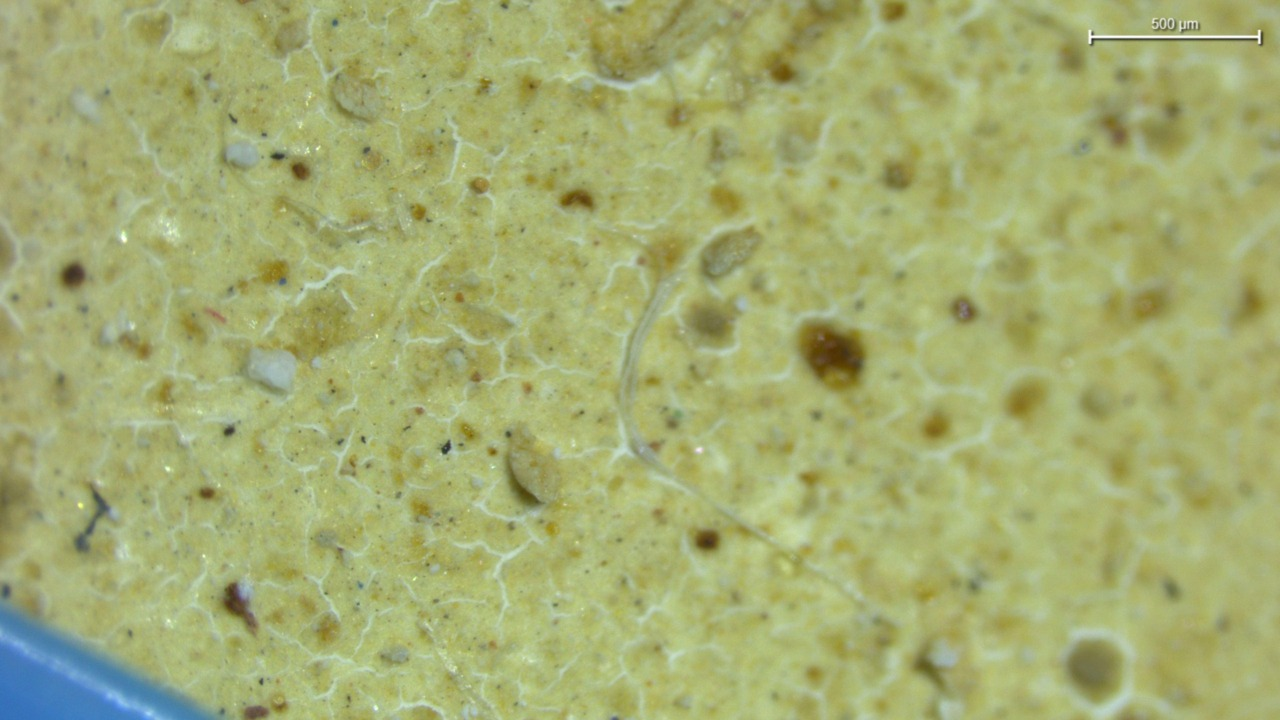microplastic_fragment: (507, 424, 565, 502), (332, 73, 384, 122), (244, 348, 297, 396), (224, 142, 259, 168)
